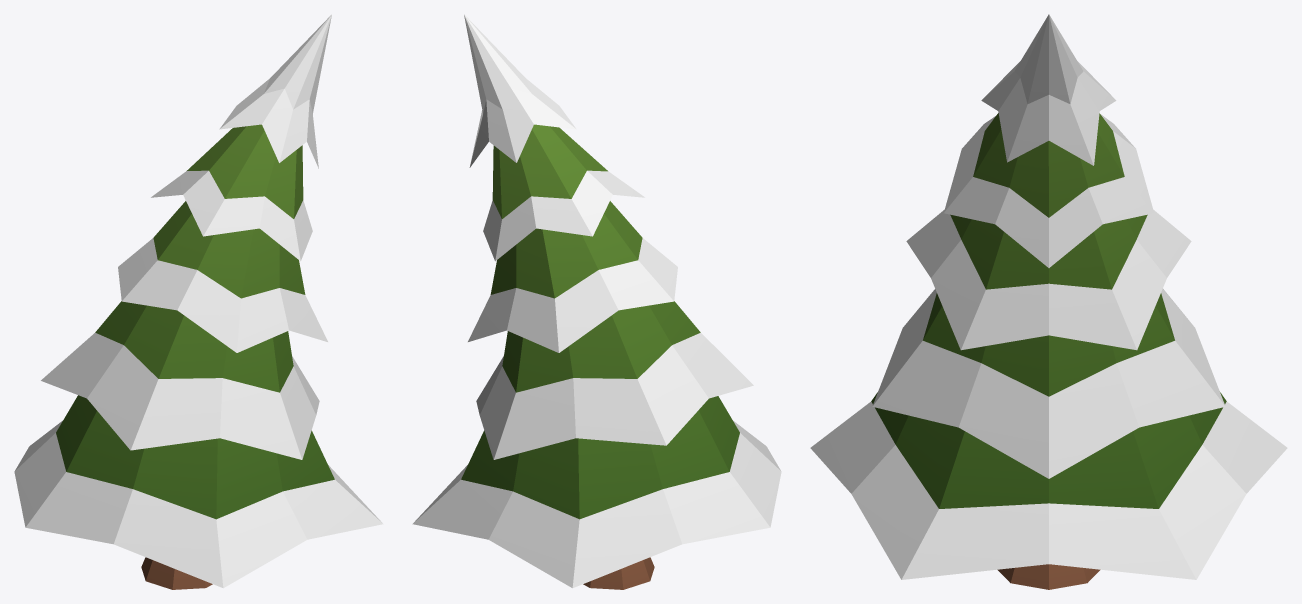
File: fir tree winter tilted.fbx
3 views of the same model, side by side, from view 1: azimuth 30°, elevation 25°; view 2: azimuth 150°, elevation 25°; view 3: azimuth 270°, elevation 25° (orthographic). The views are drawn at different scales.
Visible parts, largest first — view 1: fir tree winter tilted; view 2: fir tree winter tilted; view 3: fir tree winter tilted.
Part boxes in pixels (left/top/right/bottom): fir tree winter tilted: left=14, top=14, right=383, bottom=589; fir tree winter tilted: left=412, top=14, right=781, bottom=589; fir tree winter tilted: left=810, top=14, right=1287, bottom=589.
Size of the model in its own units: 464 by 754 by 509.
